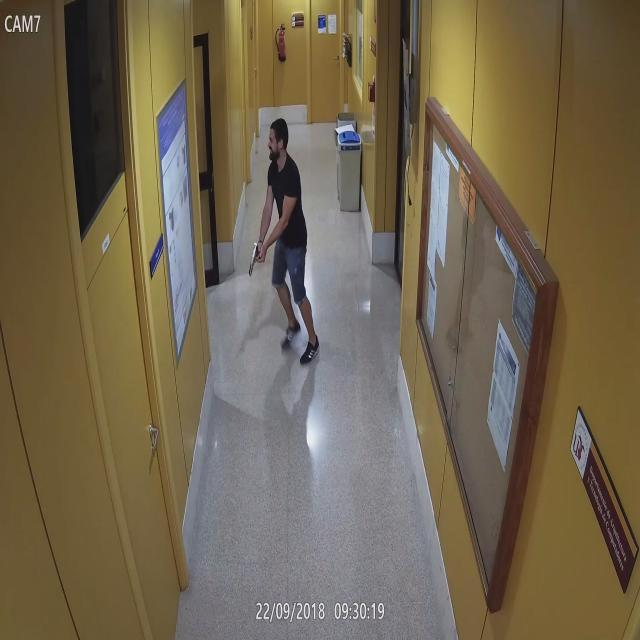weapon: (243, 246, 265, 276)
